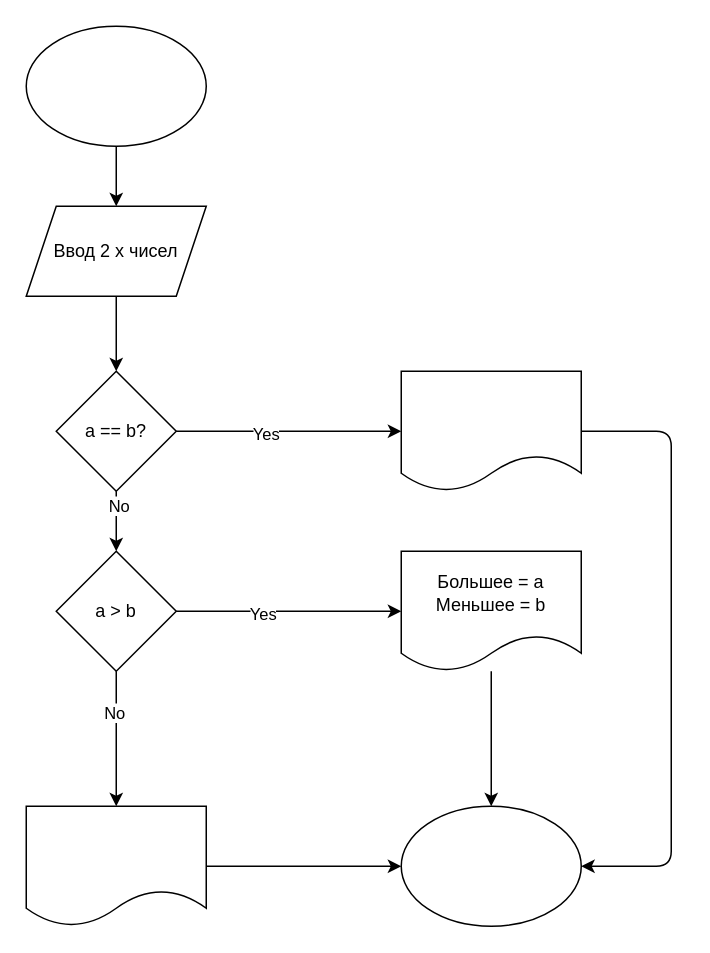
The diagram is 710 pixels wide and 953 high, and some of its shapes have lost their labels. Here are the shapes that lost their labels. From the top down, the centre of each, then its label:
At point 490,430: "Они равны".
At point 115,865: "Большее = b Меньшее = a".
